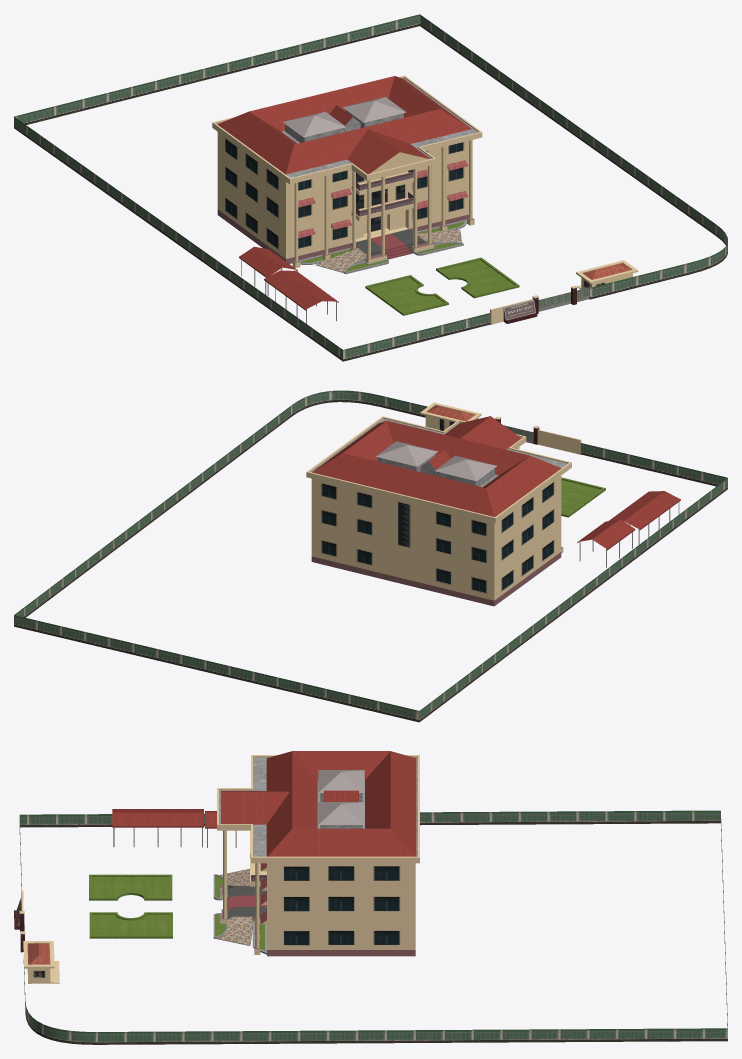
Rendered from Ban Tổ Chức Thị Xã Đồng Xoài.glb.
3 renders of one model, top to bottom at view 1: azimuth 30°, elevation 25°; view 2: azimuth 150°, elevation 25°; view 3: azimuth 270°, elevation 25°, orthographic. The views are drawn at different scales.
Visible parts, largest first — view 1: BPH054_3, BPH054_1, BPH054_2.002, BPH054_2.001, BPH054_2; view 2: BPH054_3, BPH054_1, BPH054_2.001, BPH054_2.002; view 3: BPH054_3, BPH054_1, BPH054_2.002, BPH054_2.001, BPH054_2.
Part boxes in pixels (x1,y1,x2,y2): BPH054_3: [212, 75, 482, 268]; BPH054_1: [14, 14, 727, 361]; BPH054_2.002: [365, 257, 519, 315]; BPH054_2.001: [239, 246, 338, 323]; BPH054_2: [291, 219, 466, 274]; BPH054_3: [306, 416, 571, 606]; BPH054_1: [14, 390, 727, 722]; BPH054_2.001: [577, 491, 680, 567]; BPH054_2.002: [561, 477, 605, 517]; BPH054_3: [217, 751, 419, 956]; BPH054_1: [14, 810, 727, 1044]; BPH054_2.002: [89, 874, 172, 938]; BPH054_2.001: [112, 809, 236, 847]; BPH054_2: [213, 868, 266, 954].
Size of the model in its own units: 60.25 by 15.11 by 82.09.
3 materials, 3 textured.
